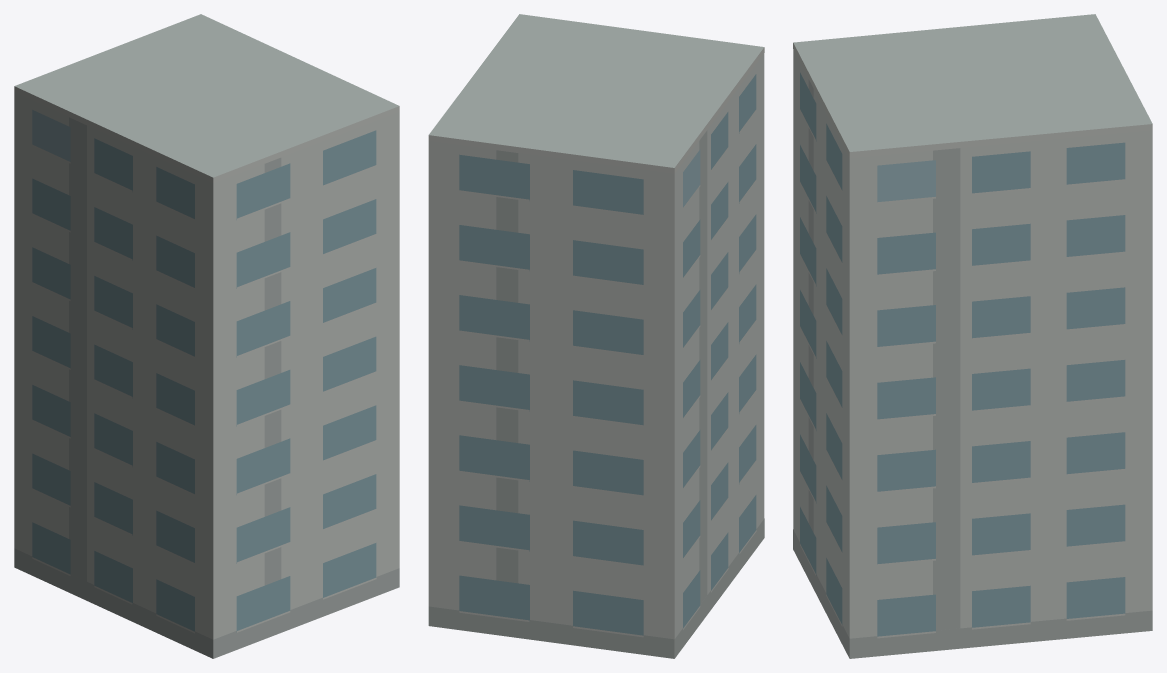
File: survey-upis-32910833.glb
3 views of the same model, side by side, from view 1: azimuth 30°, elevation 25°; view 2: azimuth 150°, elevation 25°; view 3: azimuth 270°, elevation 25° (orthographic). The views are drawn at different scales.
Parts seen in each view (by area): view 1: survey-upis-32910833.tmp; view 2: survey-upis-32910833.tmp; view 3: survey-upis-32910833.tmp.
Part boxes in pixels (x1,y1,x2,y2): survey-upis-32910833.tmp: [14, 14, 399, 658]; survey-upis-32910833.tmp: [428, 14, 764, 658]; survey-upis-32910833.tmp: [793, 14, 1152, 658].
Bounding box in the file's own units: 11.58 × 19.8 × 12.74.
